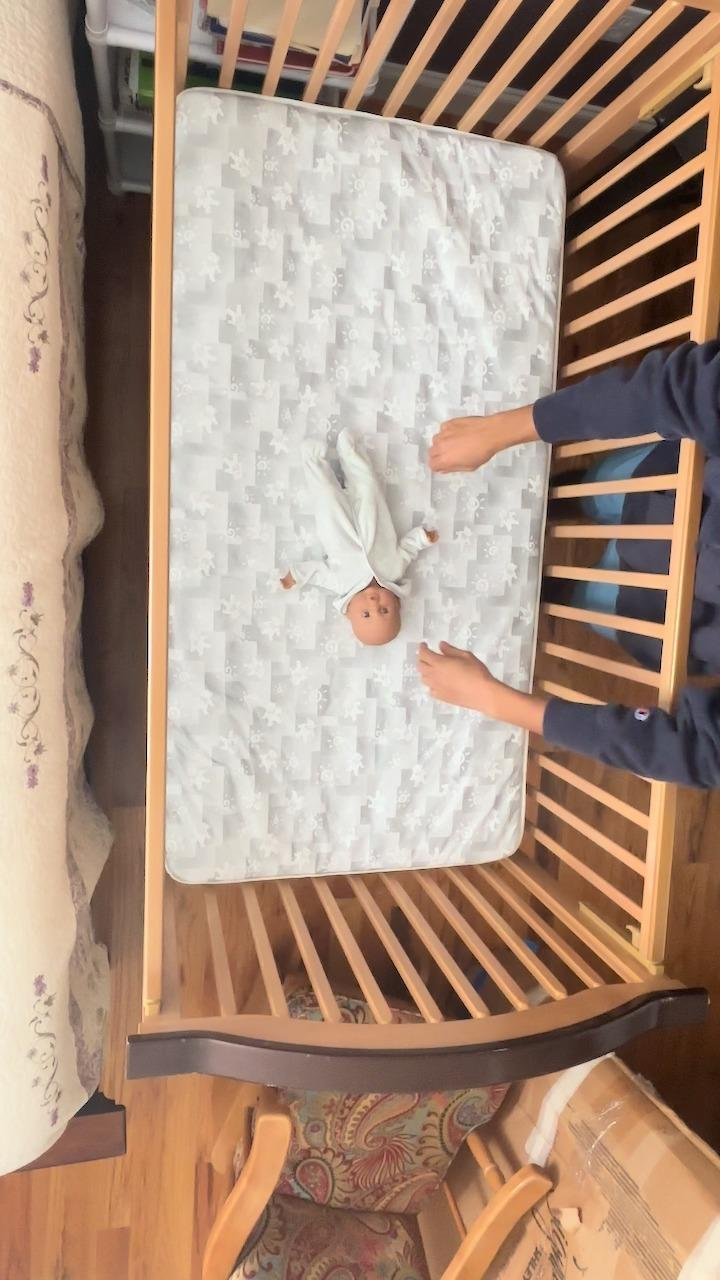baby: (274, 414, 442, 655)
